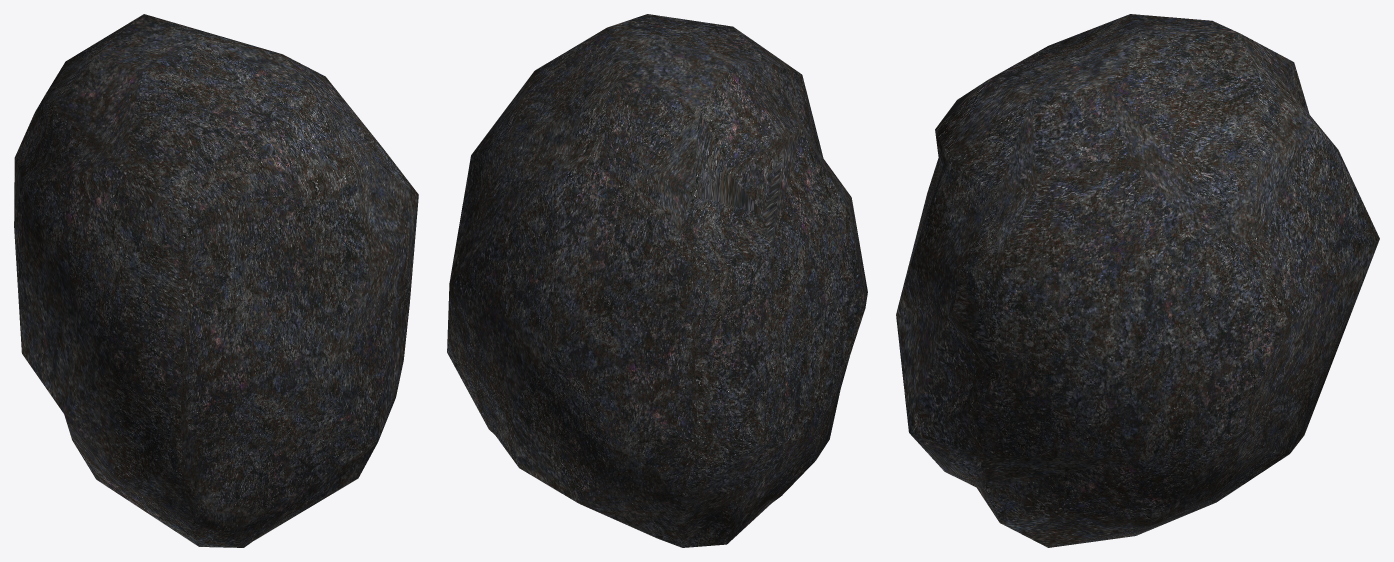
File: asteroid_metal_small_s02_l1.fbx
The picture shows the model from 3 angles, left to right: view 1: azimuth 30°, elevation 25°; view 2: azimuth 150°, elevation 25°; view 3: azimuth 270°, elevation 25°; orthographic projection. The views are drawn at different scales.
Parts seen in each view (by area): view 1: mesh_node; view 2: mesh_node; view 3: mesh_node.
Part boxes in pixels (x1,y1,x2,y2): mesh_node: (14, 14, 418, 547); mesh_node: (447, 14, 867, 547); mesh_node: (896, 14, 1379, 547).
Bounding box in the file's own units: 22.78 × 32.42 × 28.31.
